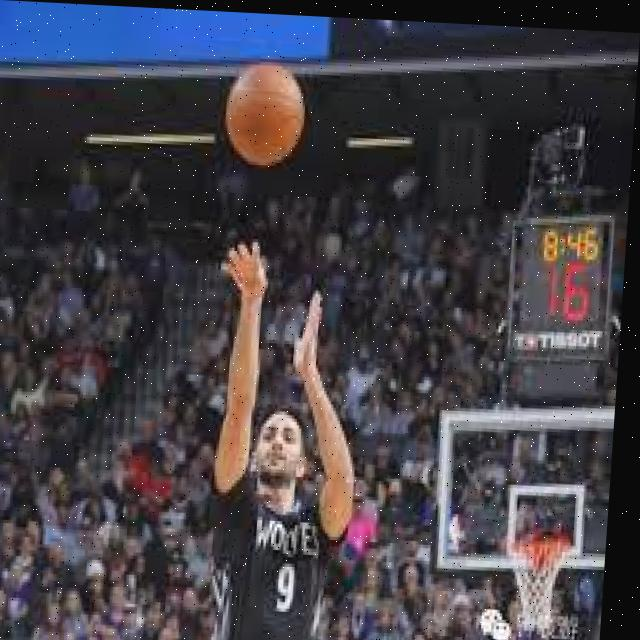basketball: (222, 57, 308, 170)
hoop: (506, 523, 574, 640)
